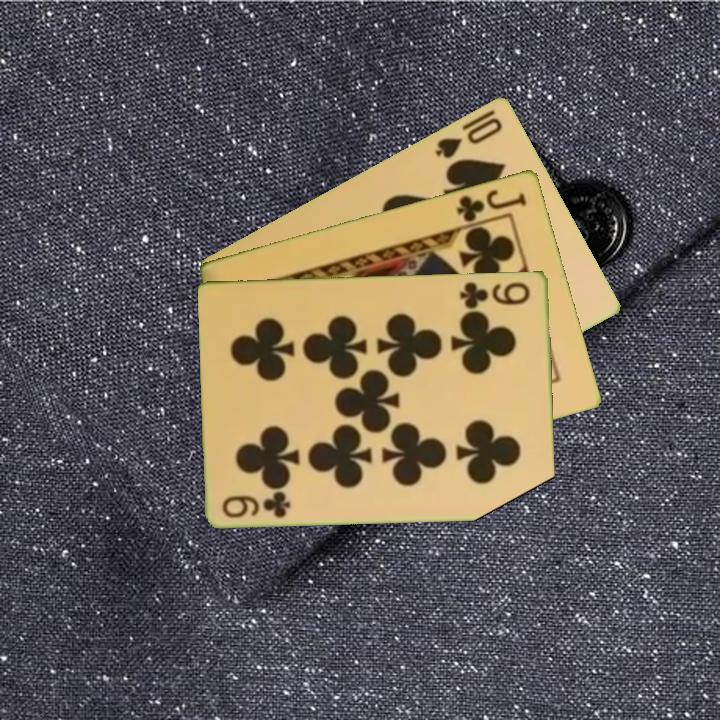10s: (431, 113, 506, 161)
9c: (456, 277, 533, 311), (219, 487, 293, 521)
Jc: (453, 185, 530, 225)
